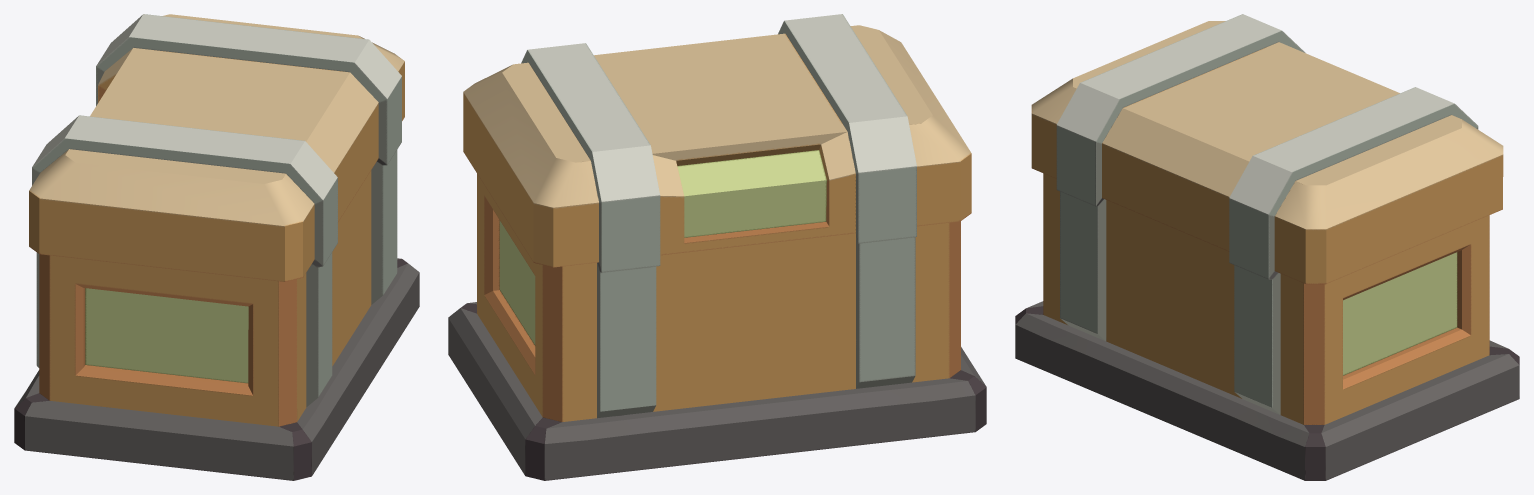
The model's file is chest.fbx.
The picture shows the model from 3 angles, left to right: view 1: azimuth 30°, elevation 25°; view 2: azimuth 150°, elevation 25°; view 3: azimuth 270°, elevation 25°; orthographic projection. The views are drawn at different scales.
Parts seen in each view (by area): view 1: chest; view 2: chest; view 3: chest.
Part boxes in pixels (x1,y1,x2,y2): chest: [14, 14, 419, 480]; chest: [448, 14, 986, 480]; chest: [1015, 14, 1519, 480].
Size of the model in its own units: 283 by 174 by 283.
